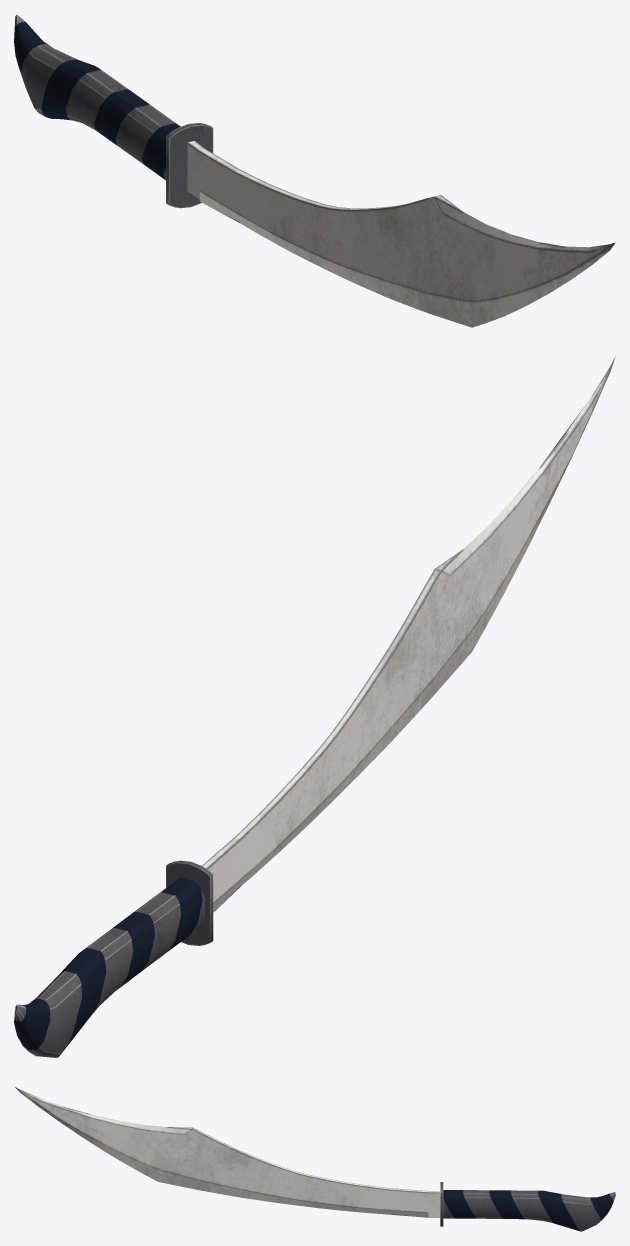
Rendered from Sword.glb.
3 renders of one model, top to bottom at view 1: azimuth 30°, elevation 25°; view 2: azimuth 150°, elevation 25°; view 3: azimuth 270°, elevation 25°, orthographic. The views are drawn at different scales.
Visible parts, largest first — view 1: pirate scimitar sword; view 2: pirate scimitar sword; view 3: pirate scimitar sword.
Boxes of the visible parts, bbox=[...] form: pirate scimitar sword: bbox=[14, 14, 615, 327]; pirate scimitar sword: bbox=[14, 357, 615, 1057]; pirate scimitar sword: bbox=[14, 1086, 615, 1231].
Bounding box in the file's own units: 0.0514 × 0.3196 × 1.2.
Materials: 1 (1 with a texture image).
